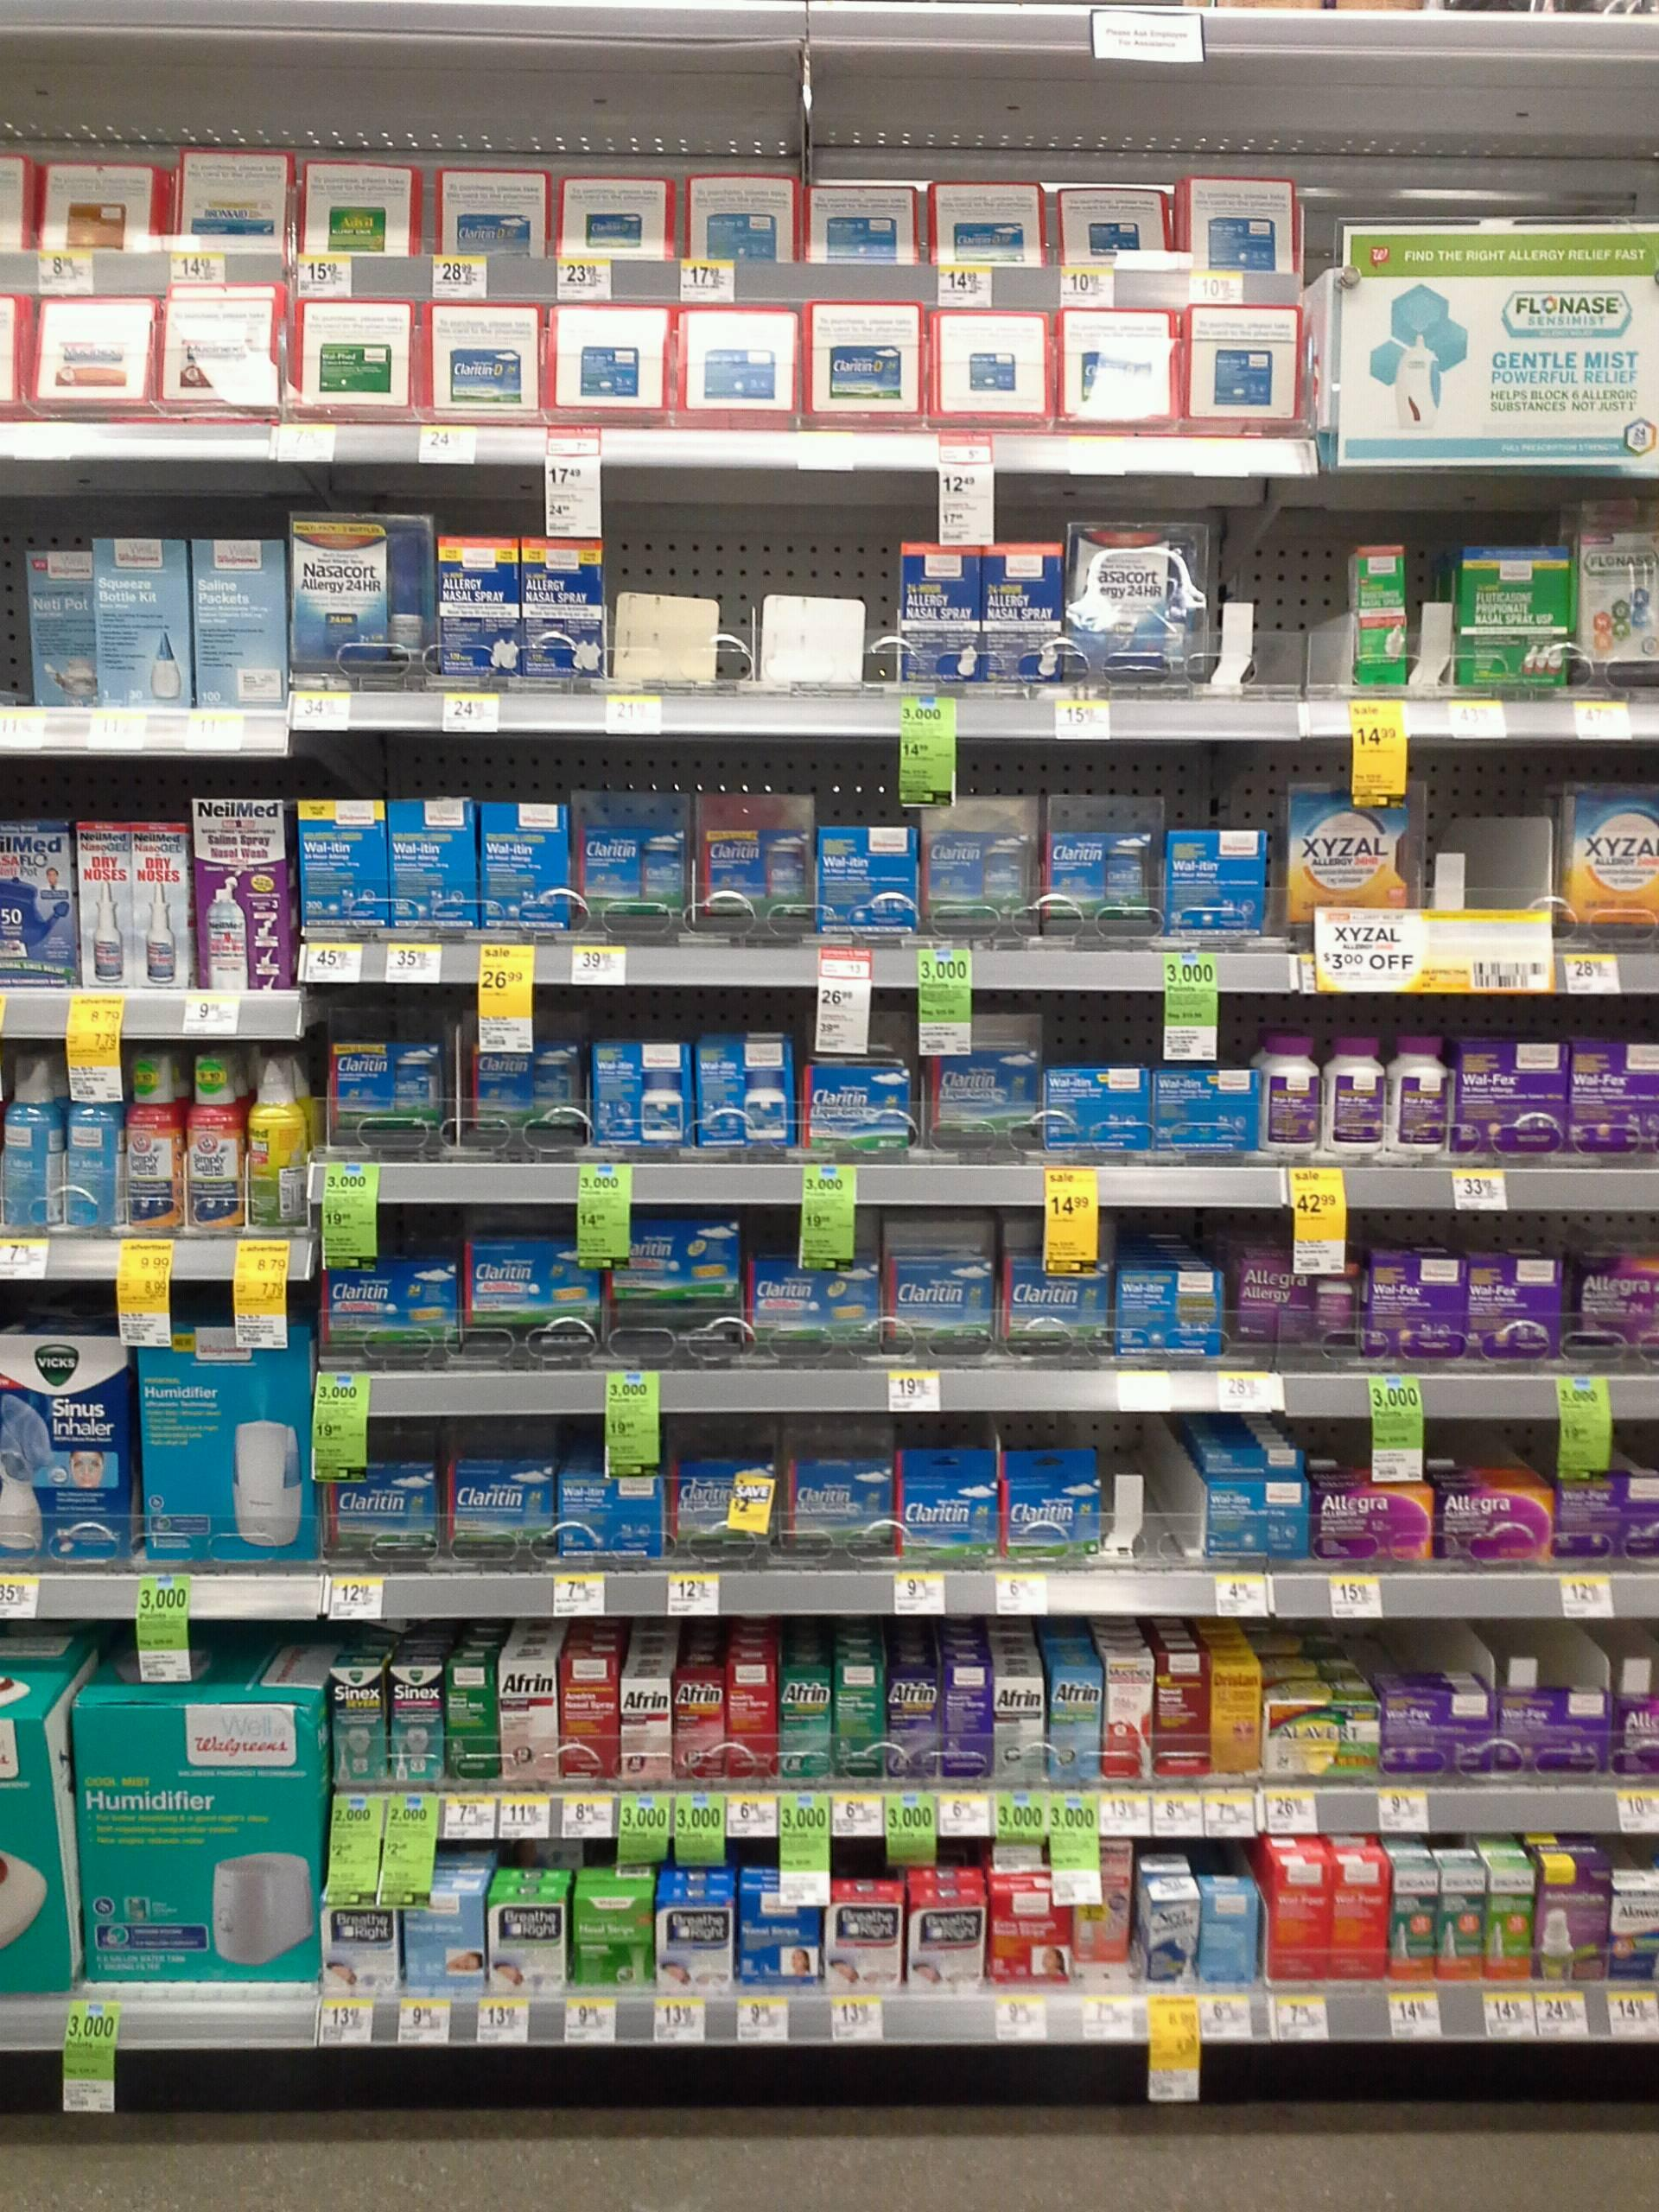misalignment: (610, 1216, 748, 1312), (1145, 1876, 1197, 1991)
